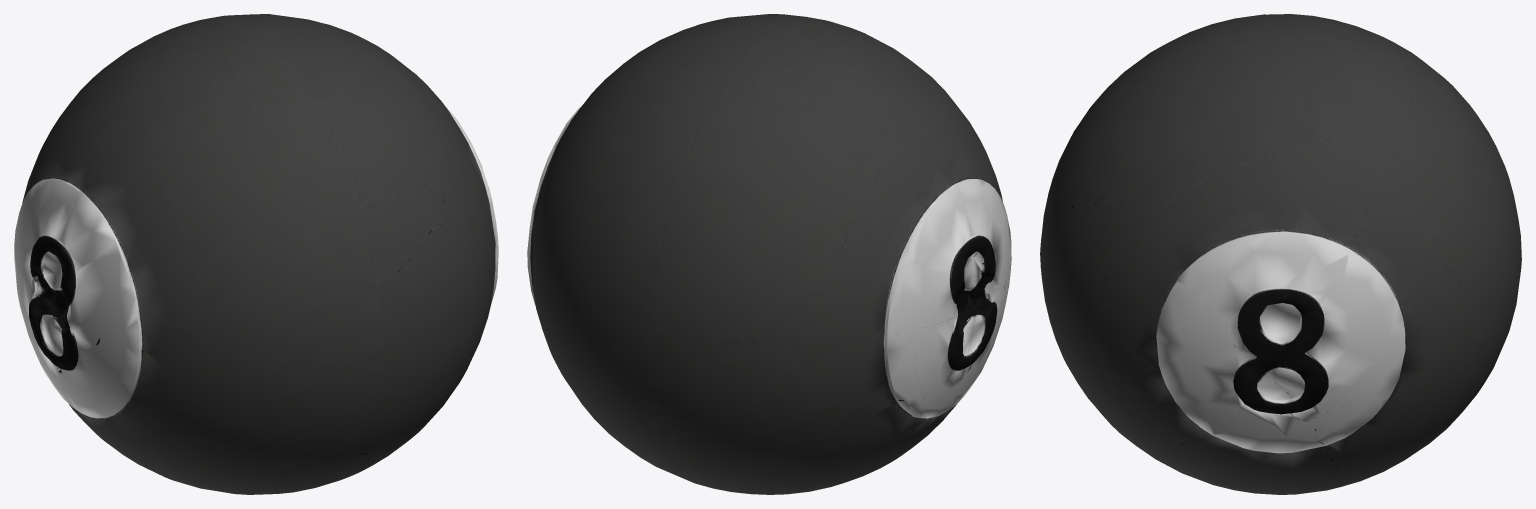
Rendered from ball8.glb.
3 renders of one model, left to right at view 1: azimuth 30°, elevation 25°; view 2: azimuth 150°, elevation 25°; view 3: azimuth 270°, elevation 25°, orthographic.
Visible parts, largest first — view 1: tripo_node_e2042f9e-08c3-4d82-a12f-ea7f80ce2e5e; view 2: tripo_node_e2042f9e-08c3-4d82-a12f-ea7f80ce2e5e; view 3: tripo_node_e2042f9e-08c3-4d82-a12f-ea7f80ce2e5e.
Boxes of the visible parts, x1,y1,x2,y2 form: tripo_node_e2042f9e-08c3-4d82-a12f-ea7f80ce2e5e: (14,14,498,494); tripo_node_e2042f9e-08c3-4d82-a12f-ea7f80ce2e5e: (527,14,1011,494); tripo_node_e2042f9e-08c3-4d82-a12f-ea7f80ce2e5e: (1040,14,1521,494).
Bounding box in the file's own units: 0.9938 × 0.9993 × 0.9993.
Materials: 1 (1 with a texture image).
